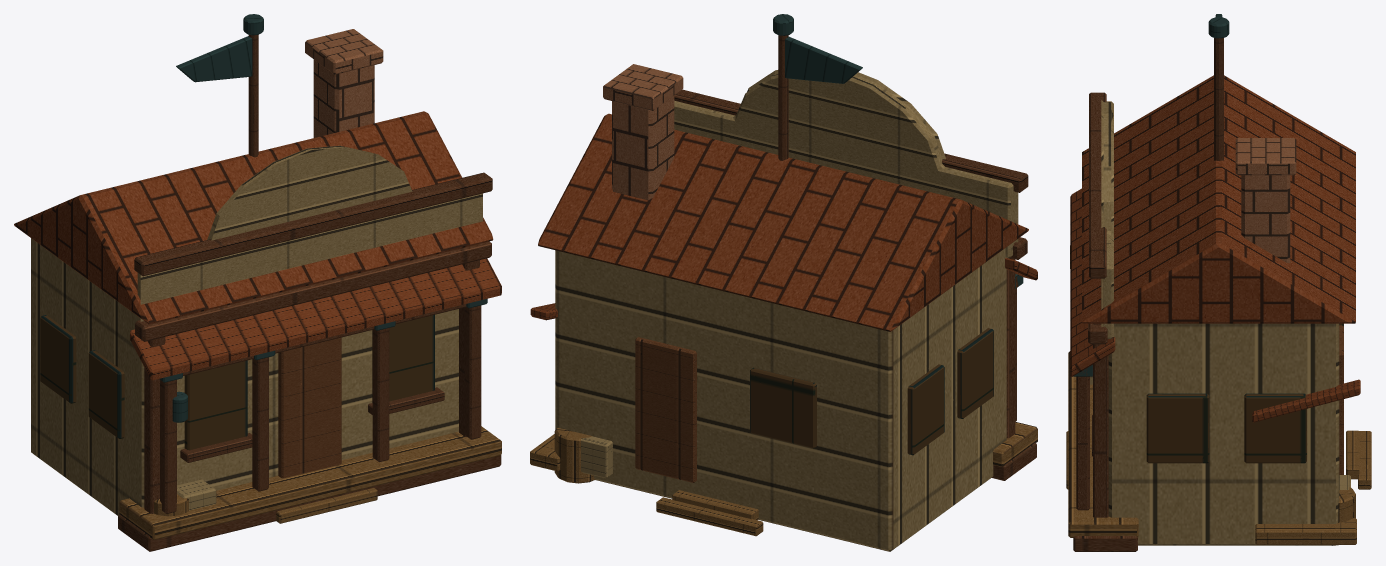
File: claim-office.glb
3 views of the same model, side by side, from view 1: azimuth 30°, elevation 25°; view 2: azimuth 150°, elevation 25°; view 3: azimuth 270°, elevation 25° (orthographic). The views are drawn at different scales.
Parts seen in each view (by area): view 1: ClaimOfficeFullWrap; view 2: ClaimOfficeFullWrap; view 3: ClaimOfficeFullWrap.
Boxes of the visible parts, bbox=[...] form: ClaimOfficeFullWrap: bbox=[14, 14, 501, 551]; ClaimOfficeFullWrap: bbox=[530, 14, 1037, 551]; ClaimOfficeFullWrap: bbox=[1066, 14, 1371, 551].
Size of the model in its own units: 4.26 by 5.02 by 3.12.
Materials: 1 (1 with a texture image).
